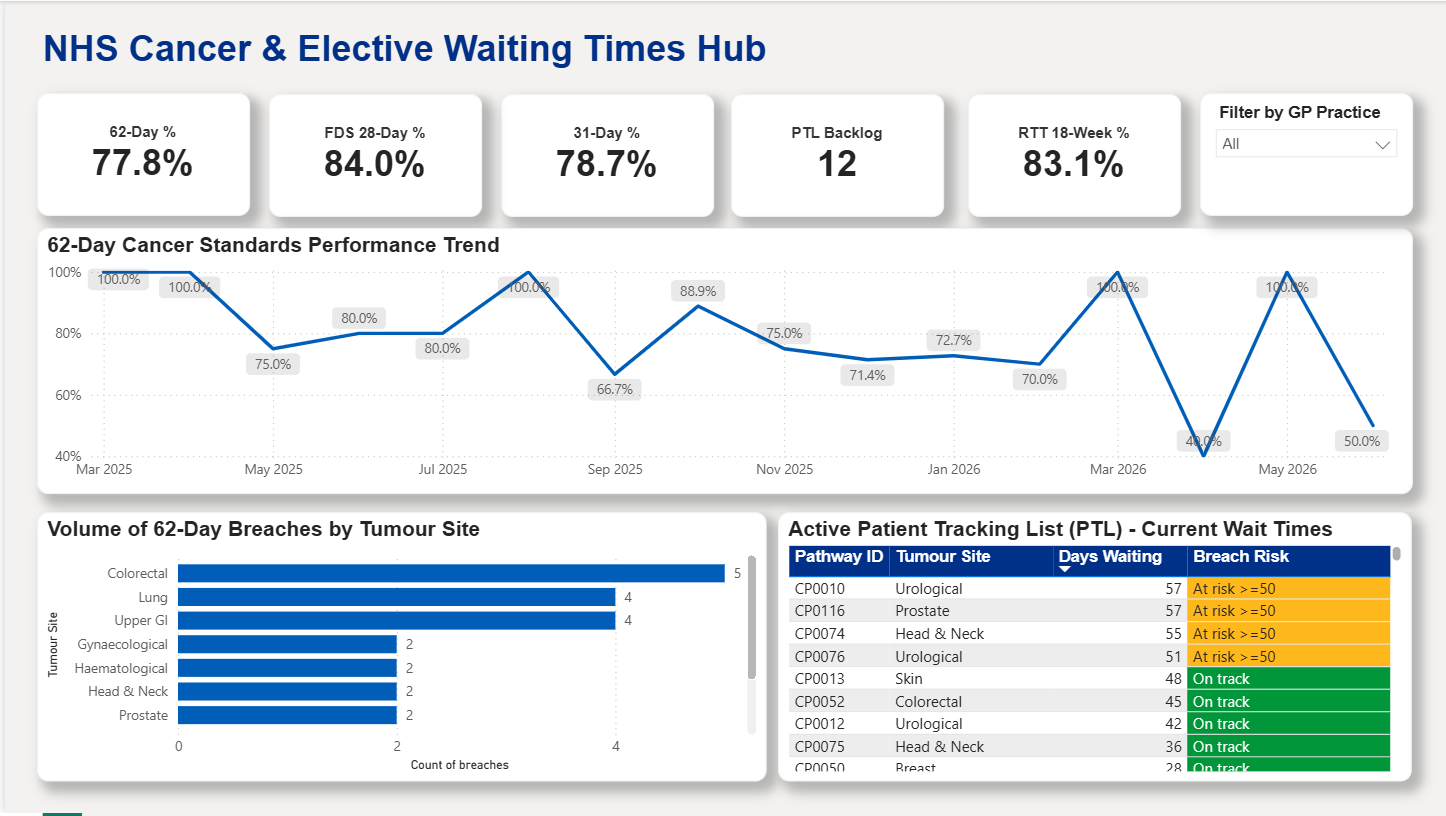

Layout of this report page (visuals, bound fields, positions):
{"tool":"powerbi","page":{"name":"Page 1","canvas":[1280,720],"ordinal":0},"visuals":[{"type":"cardVisual","fields":{"Data":["cancer_analysis.62-Day Performance %"]},"box":[28.2,81.7,188.7,108.9],"z":0},{"type":"cardVisual","fields":{"Data":["cancer_analysis.31-Day Performance %"]},"box":[439.9,82.6,188.7,108.9],"z":1000},{"type":"cardVisual","fields":{"Data":["cancer_analysis.FDS 28-Day %"]},"box":[234.4,82.6,188.7,108.9],"z":2000},{"type":"cardVisual","fields":{"Data":["cancer_analysis.PTL Patients Waiting"]},"box":[644.1,82.6,188.7,108.9],"z":3000},{"type":"cardVisual","fields":{"Data":["rtt_analysis.RTT 18-Week %"]},"box":[854.2,82.6,188.7,108.9],"z":4000},{"type":"lineChart","title":"62-Day Cancer Standards Performance Trend","fields":{"Y":["cancer_analysis.62-Day Performance %"],"Category":["cancer_analysis.treatment_month"]},"box":[28.2,201.3,1219.7,236.4],"z":5000},{"type":"clusteredBarChart","title":"Volume of 62-Day Breaches by Tumour Site","fields":{"Y":["CountNonNull(cancer_analysis.pathway_id)"],"Category":["cancer_analysis.tumour_site"]},"box":[28.2,453.3,646.8,239.3],"z":5001},{"type":"tableEx","title":"Active Patient Tracking List (PTL) - Current Wait Times","fields":{"Values":["cancer_analysis.pathway_id","cancer_analysis.tumour_site","cancer_analysis.days_waiting","cancer_analysis.breach_risk"]},"box":[685.7,453.3,562.2,239.3],"z":5002},{"type":"slicer","fields":{"Values":["patients.gp_practice"]},"box":[1059.5,81.8,188.7,108.9],"z":5003},{"type":"textbox","box":[28.2,19.5,1134.1,49.6],"z":5004}]}

Visuals, with their boxes in screenshot pixels (x1, y1, x2, y2), scaled from the page's 1280x720 canvas onto the 1446x816 screenshot:
cardVisual - cancer_analysis.62-Day Performance %: 32,93,245,216
cardVisual - cancer_analysis.31-Day Performance %: 497,94,710,217
cardVisual - cancer_analysis.FDS 28-Day %: 265,94,478,217
cardVisual - cancer_analysis.PTL Patients Waiting: 728,94,941,217
cardVisual - rtt_analysis.RTT 18-Week %: 965,94,1178,217
"62-Day Cancer Standards Performance Trend" lineChart: 32,228,1410,496
"Volume of 62-Day Breaches by Tumour Site" clusteredBarChart: 32,514,763,785
"Active Patient Tracking List (PTL) - Current Wait Times" tableEx: 775,514,1410,785
slicer - patients.gp_practice: 1197,93,1410,216
textbox: 32,22,1313,78
